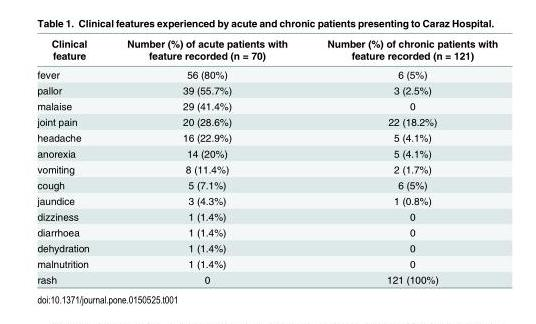table: (36, 37, 497, 285)
table column: (107, 37, 306, 285), (306, 37, 497, 285), (36, 37, 107, 285)
table column header: (36, 37, 497, 64)
table row: (36, 37, 497, 64), (36, 64, 497, 82), (36, 97, 497, 113), (36, 113, 497, 129), (36, 129, 497, 145), (36, 160, 497, 176), (36, 176, 497, 192), (36, 192, 497, 208), (36, 208, 497, 224), (36, 239, 497, 255), (36, 255, 497, 271), (36, 82, 497, 97), (36, 145, 497, 160), (36, 224, 497, 239), (36, 271, 497, 285)
